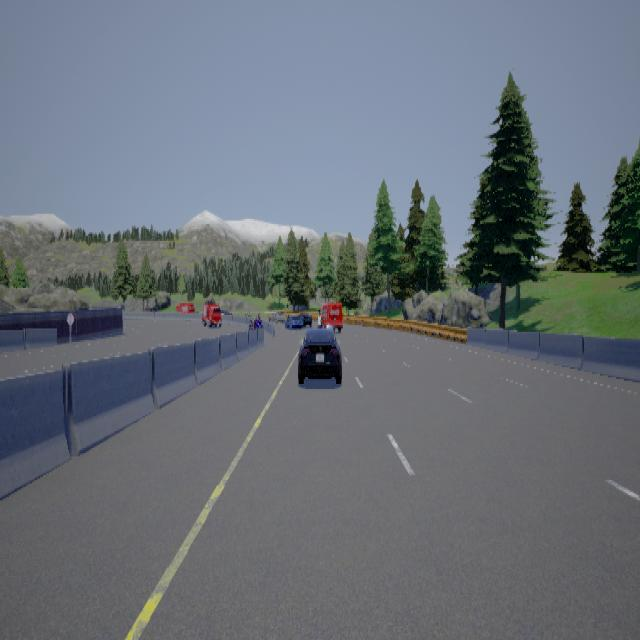vehicle: (297, 325, 341, 382), (316, 300, 343, 330), (268, 310, 311, 328), (201, 303, 223, 329)
